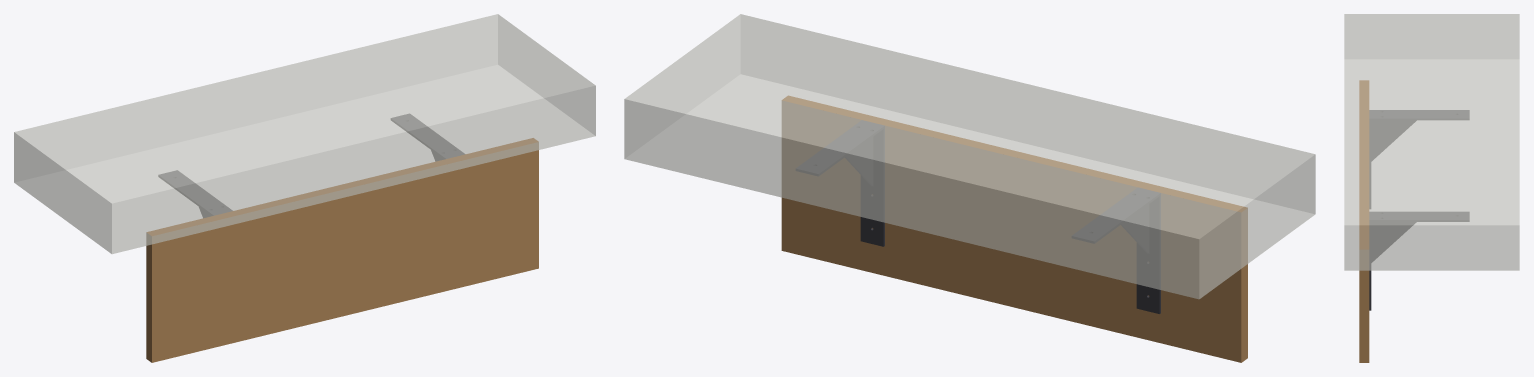
3 renders of one model, left to right at view 1: azimuth 30°, elevation 25°; view 2: azimuth 150°, elevation 25°; view 3: azimuth 270°, elevation 25°, orthographic. The views are drawn at different scales.
Parts seen in each view (by area): view 1: 3:Wand, 0:Regalbrett, 1:Winkel_links, 2:Winkel_rechts; view 2: 3:Wand, 0:Regalbrett, 1:Winkel_links, 2:Winkel_rechts; view 3: 3:Wand, 0:Regalbrett, 2:Winkel_rechts, 1:Winkel_links.
Boxes of the visible parts, bbox=[...] form: 3:Wand: bbox=[14, 14, 595, 254]; 0:Regalbrett: bbox=[146, 138, 538, 362]; 1:Winkel_links: bbox=[158, 170, 232, 217]; 2:Winkel_rechts: bbox=[391, 114, 464, 160]; 3:Wand: bbox=[624, 14, 1315, 299]; 0:Regalbrett: bbox=[781, 95, 1247, 362]; 1:Winkel_links: bbox=[1072, 187, 1160, 313]; 2:Winkel_rechts: bbox=[796, 120, 884, 246]; 3:Wand: bbox=[1344, 14, 1519, 270]; 0:Regalbrett: bbox=[1359, 80, 1369, 362]; 2:Winkel_rechts: bbox=[1369, 212, 1469, 310]; 1:Winkel_links: bbox=[1369, 110, 1469, 208].
Bounding box in the file's own units: 1000 × 350 × 350.
